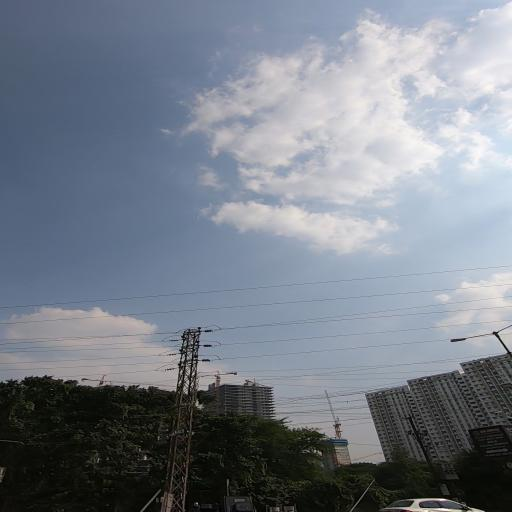Street_light: (444, 334, 496, 346)
